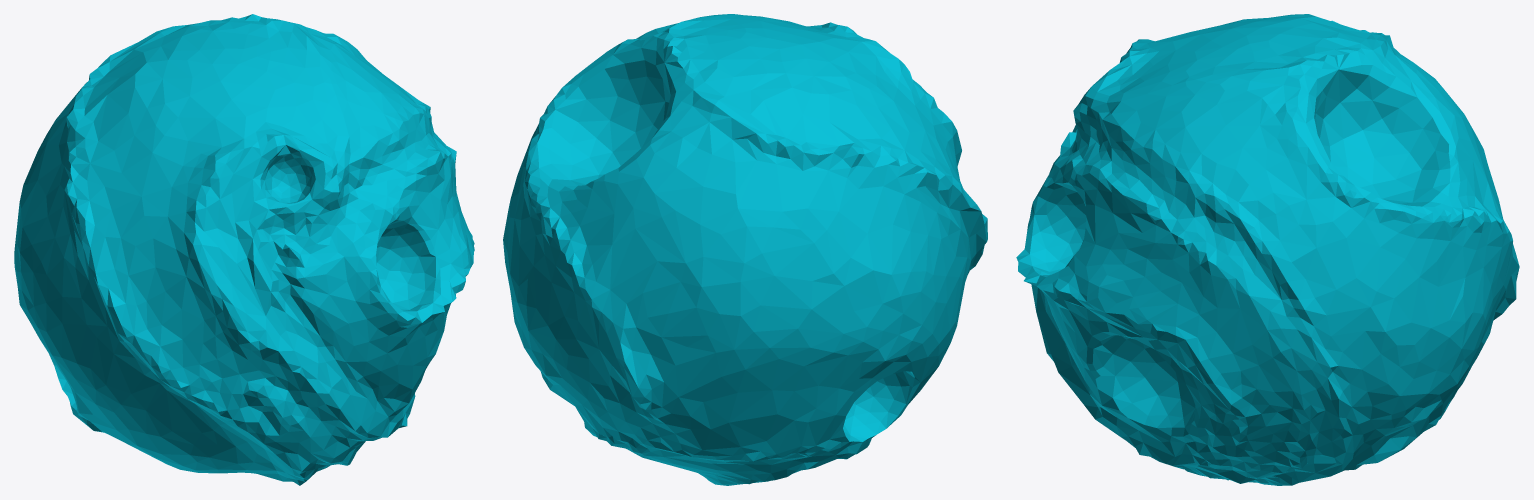
File: Planet_3.glb
The picture shows the model from 3 angles, left to right: view 1: azimuth 30°, elevation 25°; view 2: azimuth 150°, elevation 25°; view 3: azimuth 270°, elevation 25°; orthographic projection. The views are drawn at different scales.
Parts seen in each view (by area): view 1: Planet_3; view 2: Planet_3; view 3: Planet_3.
Boxes of the visible parts, box(x1,y1,x2,y2) form: Planet_3: box(14, 14, 474, 485); Planet_3: box(503, 14, 987, 485); Planet_3: box(1016, 14, 1519, 485).
Size of the model in its own units: 19.83 by 20.37 by 21.38.
Materials: 1 (1 with a texture image).
